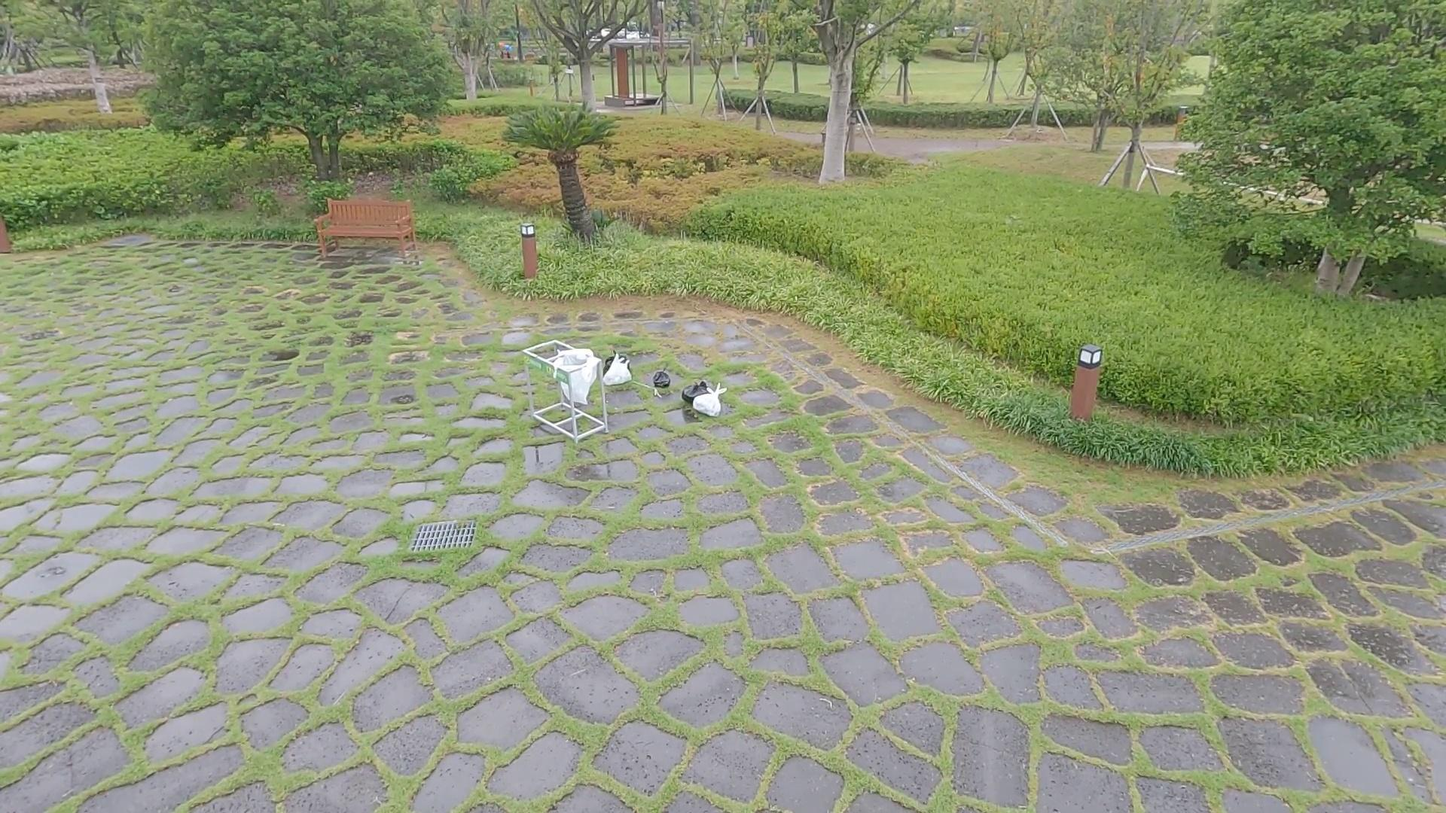trash: (692, 382, 727, 417), (601, 354, 633, 389), (602, 347, 631, 382), (681, 381, 713, 406), (652, 362, 671, 389)
